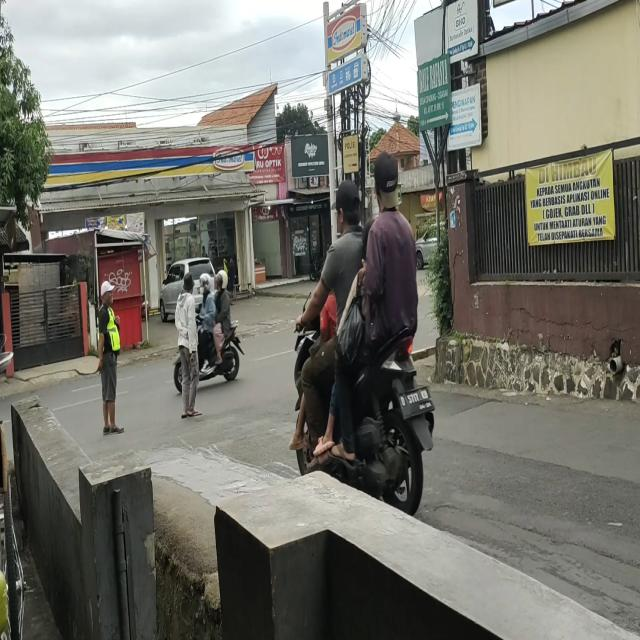helmet: (199, 274, 212, 294), (215, 271, 228, 290)
no-helmet: (376, 147, 406, 212), (336, 178, 365, 233)
